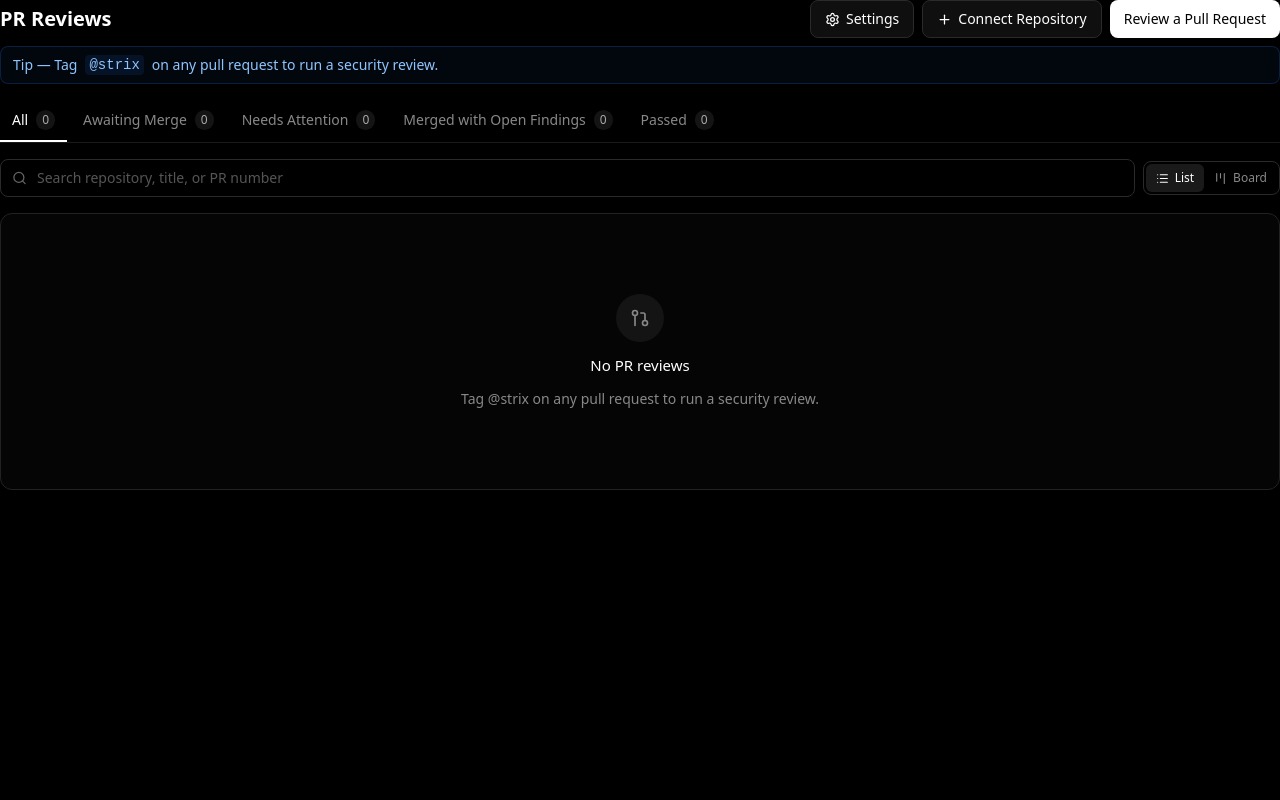
PRReviewsList › trigger review modal › shows an empty state when there are no connected repositories to review
Click the button "Review a Pull Request".
click(1195, 19)  # box [1110, 0, 1279, 38]
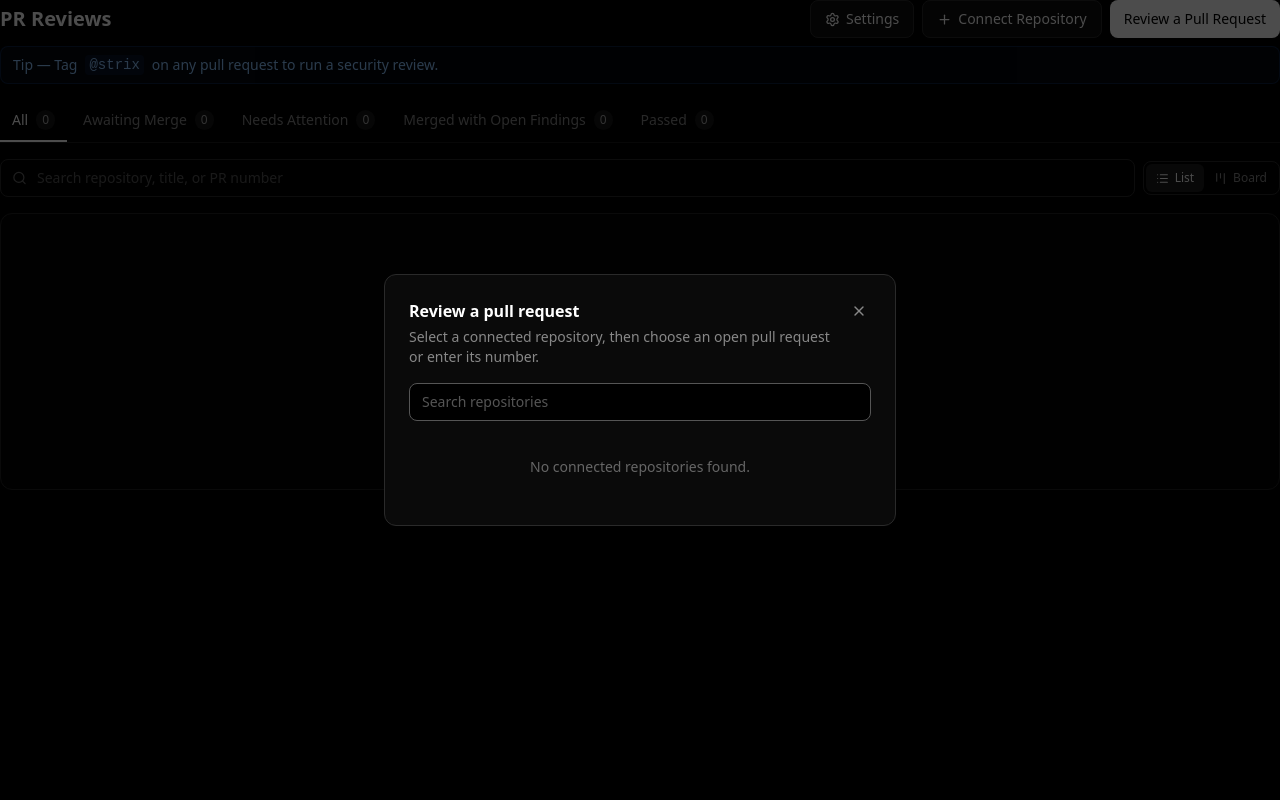
Check: the text "No connected repositories found." is shown, box [530, 457, 750, 476]
